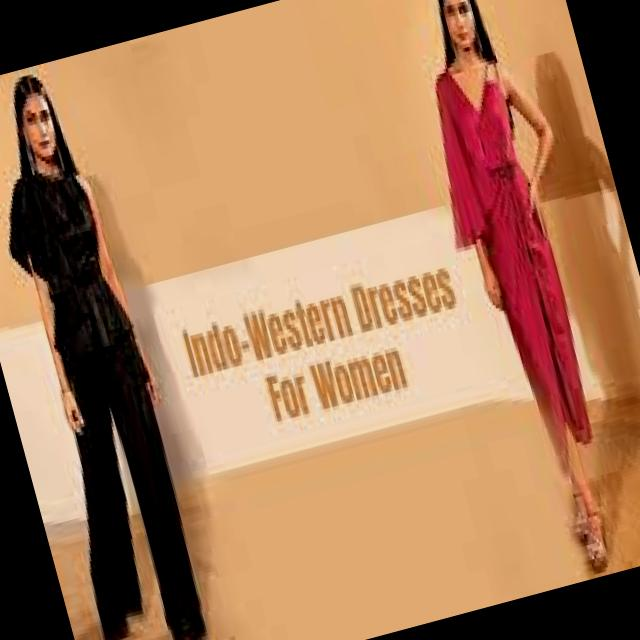dress: (9, 173, 205, 639), (435, 69, 592, 472)
